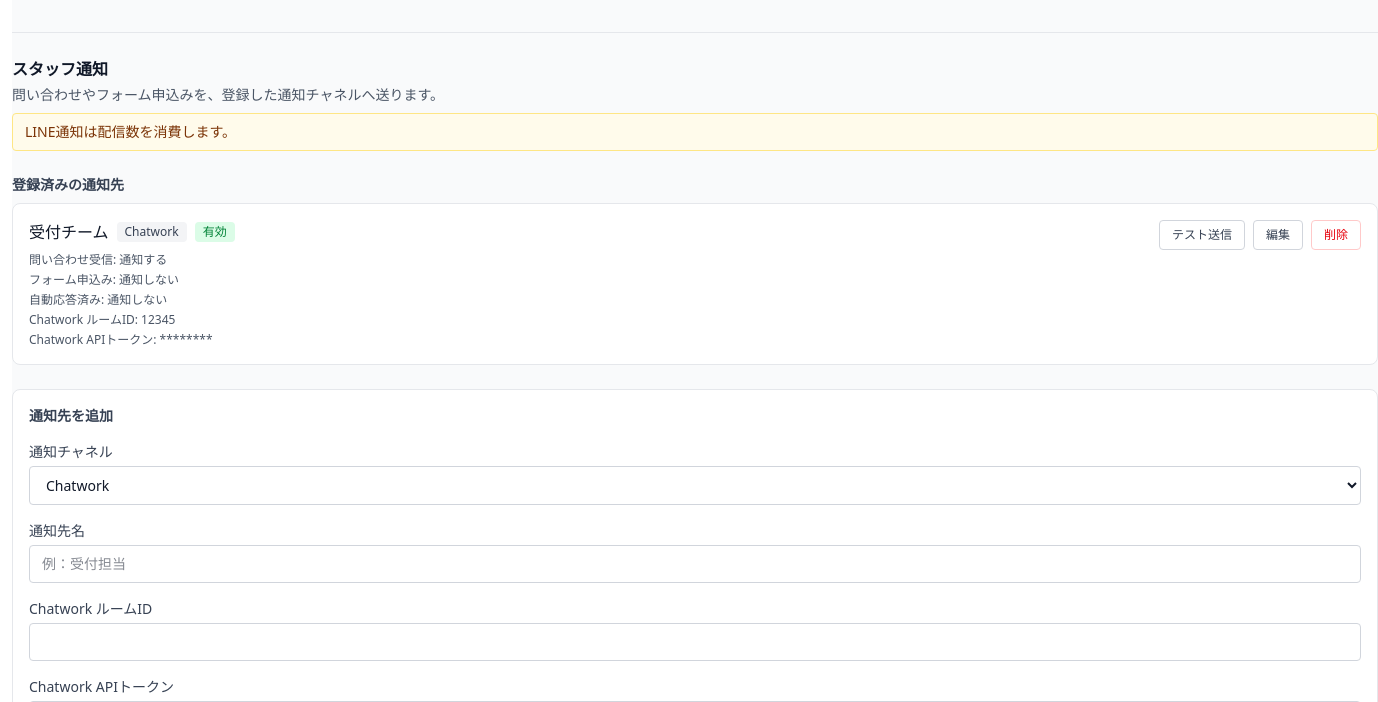
Scenario: StaffNotificationSettingsPanel › Chatwork テスト送信の成功と失敗を status/alert で表示する
Click the button with aria-label "受付チームへテスト送信": (1202,235) [1159,220,1245,250]
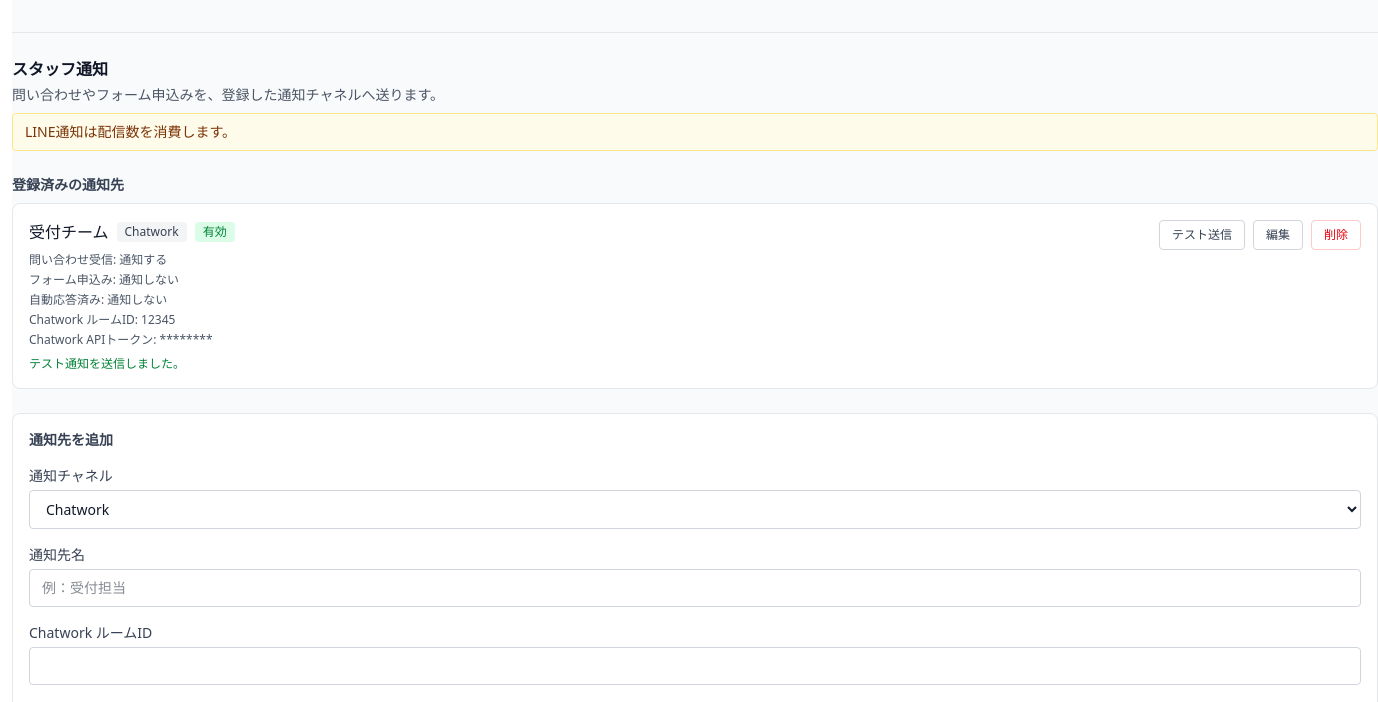
Check: the message shows "テスト通知を送信しました", box [29,355,185,372]
Click the button with aria-label "受付チームへテスト送信": (1202,235) [1159,220,1245,250]
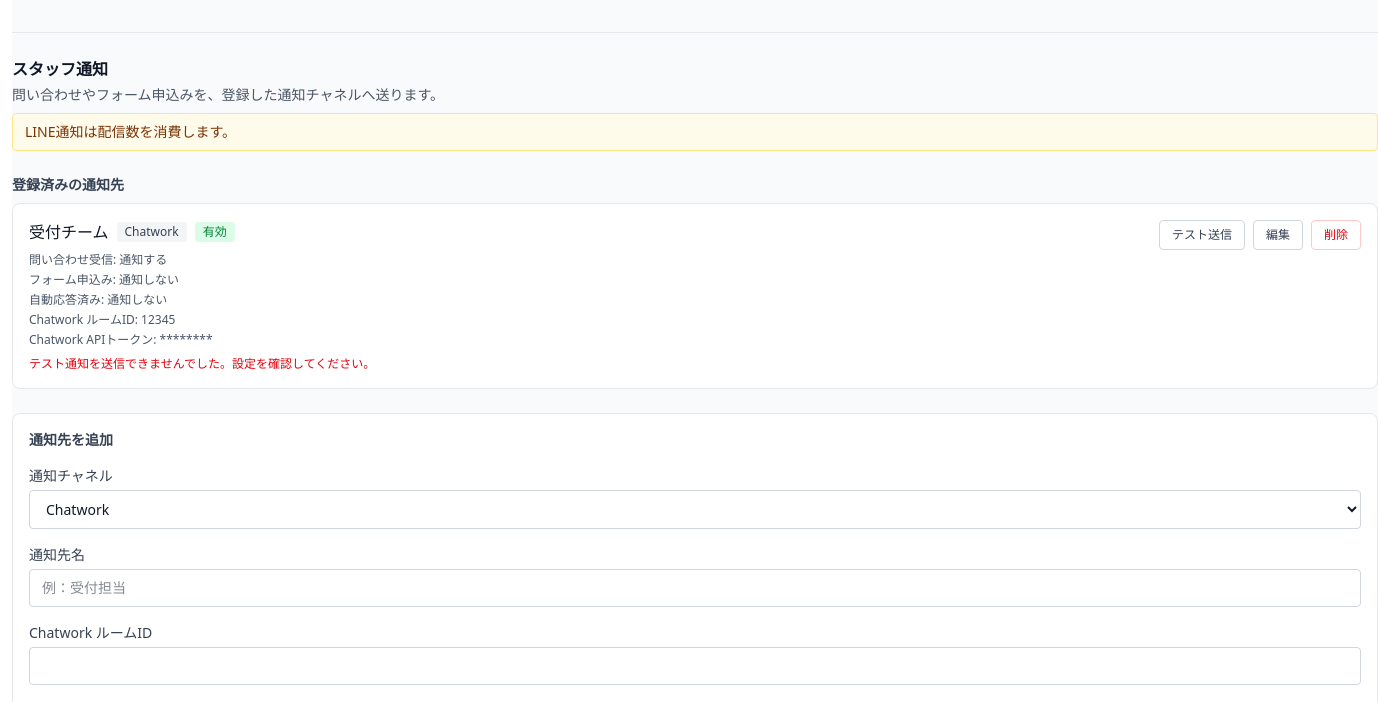
Check: the message shows "テスト通知を送信できませんでした", box [29,355,375,372]
